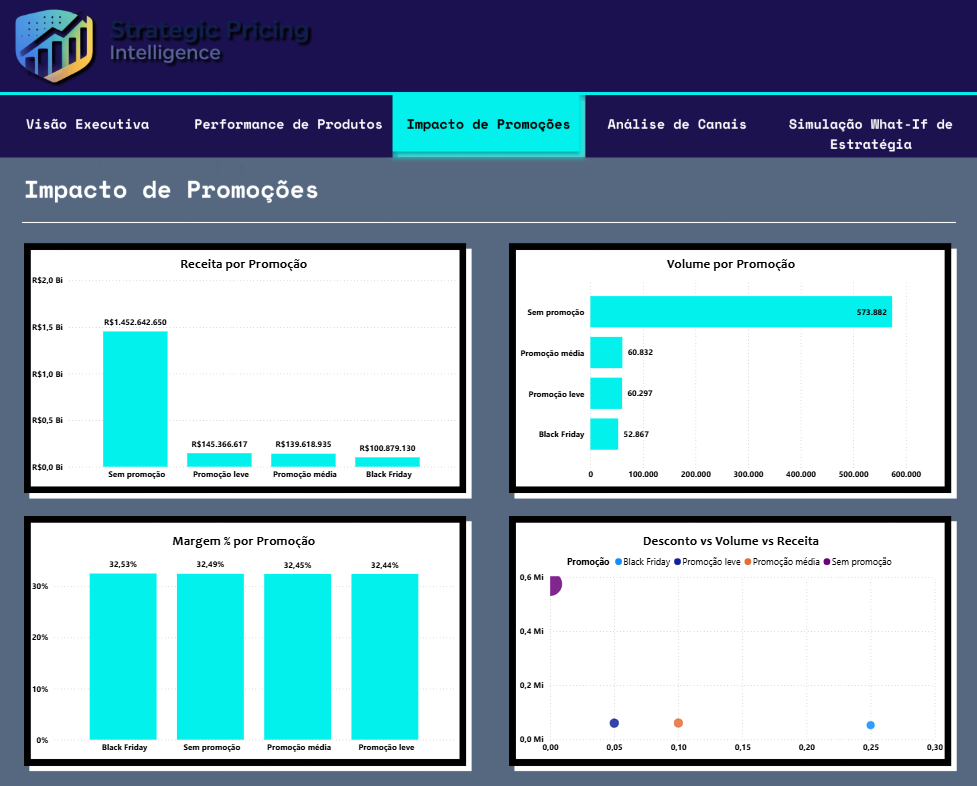

Layout of this report page (visuals, bound fields, positions):
{"tool":"powerbi","page":{"name":"Impacto de Promoções","canvas":[1460,1178],"ordinal":2},"visuals":[{"type":"columnChart","title":"Receita por Promoção","fields":{"Category":["Dim_Promocao.TipoPromocao"],"Y":["Fato_Vendas.Receita Total"]},"box":[42,382,644,346],"z":0},{"type":"barChart","title":"Volume por Promoção","fields":{"Category":["Dim_Promocao.TipoPromocao"],"Y":["Fato_Vendas.Volume Total"]},"box":[770,382,642,346],"z":1000},{"type":"columnChart","fields":{"Category":["Dim_Promocao.TipoPromocao"],"Y":["Fato_Vendas.Margem %"]},"box":[42,796,644,340],"z":2000},{"type":"scatterChart","title":"Desconto vs Volume vs Receita","fields":{"X":["Dim_Promocao.Desconto"],"Y":["Fato_Vendas.Volume Total"],"Size":["Fato_Vendas.Receita Total"],"Series":["Dim_Promocao.TipoPromocao"]},"box":[770,796,642,340],"z":3000}]}

Visuals, with their boxes on the page's 1460x1178 design canvas (x1, y1, x2, y2). These are canvas units, not pixel positions in the 977x786 screenshot, which may show the page scaled, cropped or inside an application window:
"Receita por Promoção" columnChart: pyautogui.locateOnScreen(42, 382, 686, 728)
"Volume por Promoção" barChart: pyautogui.locateOnScreen(770, 382, 1412, 728)
columnChart - Dim_Promocao.TipoPromocao x Fato_Vendas.Margem %: pyautogui.locateOnScreen(42, 796, 686, 1136)
"Desconto vs Volume vs Receita" scatterChart: pyautogui.locateOnScreen(770, 796, 1412, 1136)
